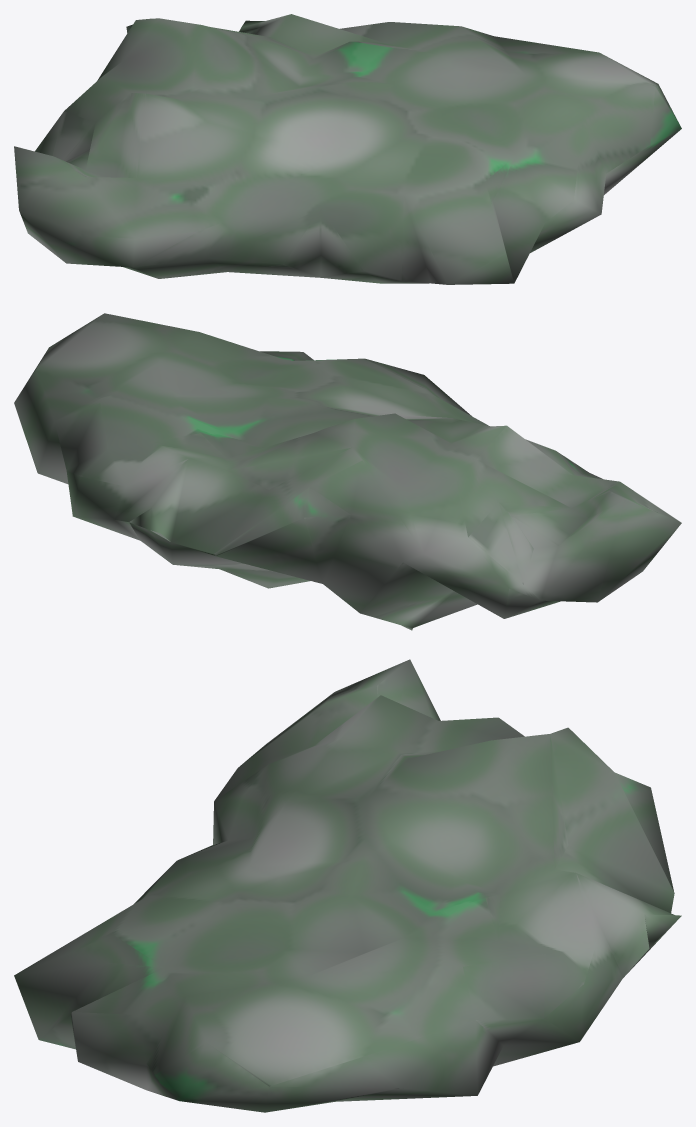
File: my_mesh_flat rock SubTool4.glb
3 renders of one model, top to bottom at view 1: azimuth 30°, elevation 25°; view 2: azimuth 150°, elevation 25°; view 3: azimuth 270°, elevation 25°, orthographic. The views are drawn at different scales.
Parts seen in each view (by area): view 1: flat rock SubTool4; view 2: flat rock SubTool4; view 3: flat rock SubTool4.
Part boxes in pixels (x1,y1,x2,y2): flat rock SubTool4: (14, 14, 681, 284); flat rock SubTool4: (14, 313, 681, 630); flat rock SubTool4: (14, 659, 681, 1112).
Size of the model in its own units: 52.36 by 16.06 by 38.07.
1 material, 1 textured.
